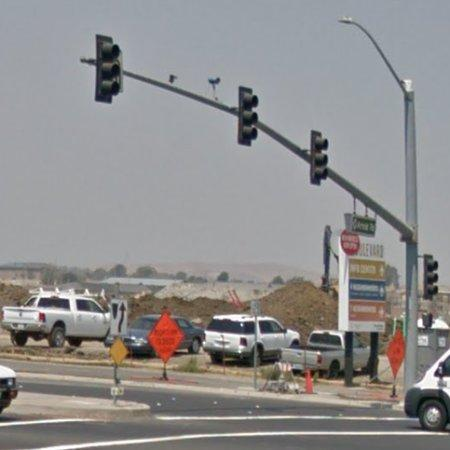traffic lights: (94, 35, 122, 105), (237, 86, 260, 146), (309, 130, 328, 186)
